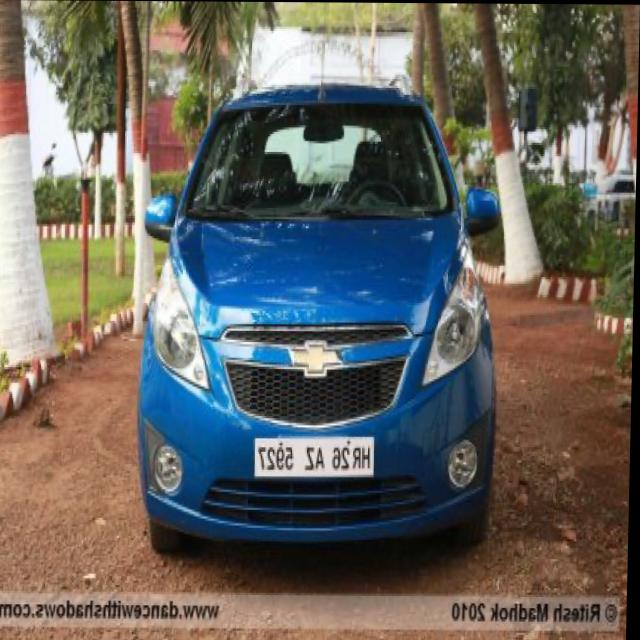licence: (252, 418, 391, 503)
